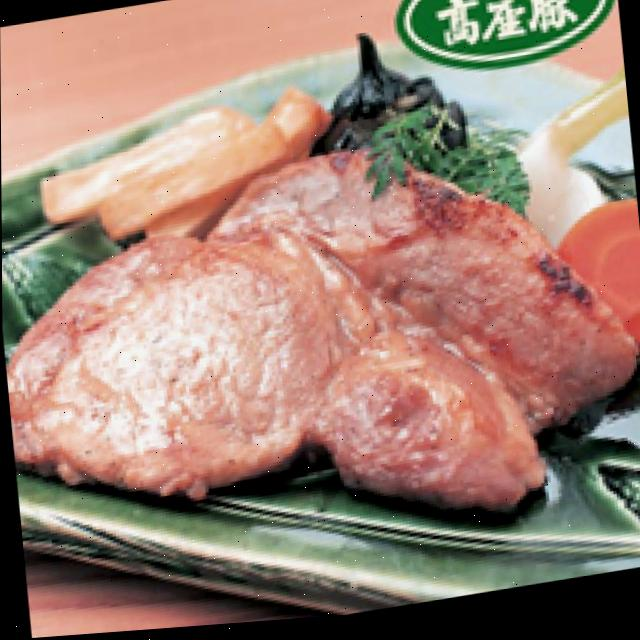猪肉菜式: (1, 171, 556, 584)
